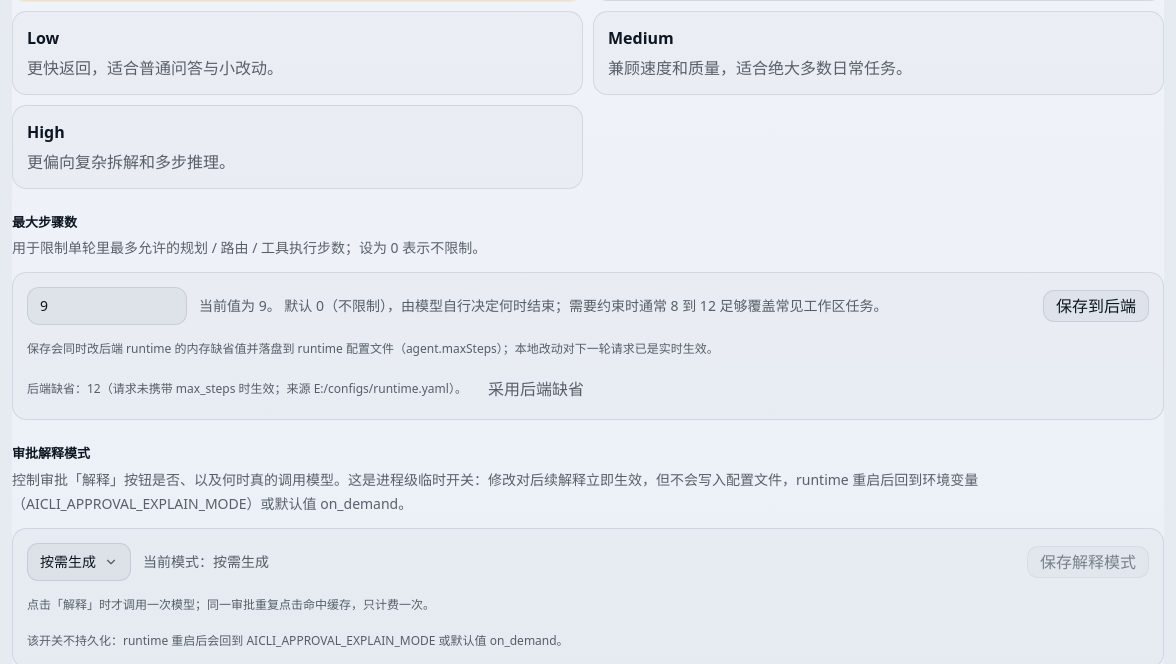
Test: ChatSettingsPage max steps › surfaces the runtime error when the save fails
The image size is (1176, 664).
(page scrolled)
Click the button "保存到后端".
click(1096, 306)  # box 1043,290 -> 1149,322
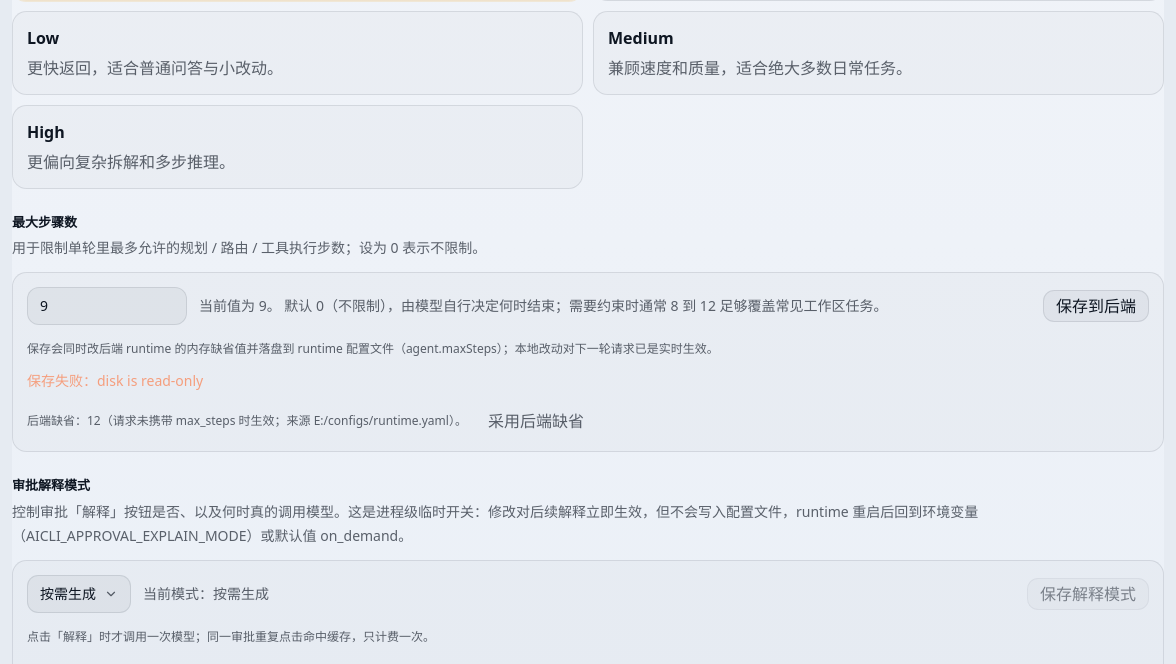
Expected: the text "保存失败" is shown, 27,371 -> 203,390
Expected: the text "disk is read-only" is shown, 27,371 -> 203,390
